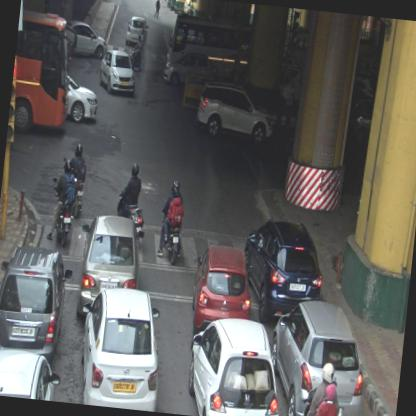bus: (8, 10, 78, 136), (164, 13, 252, 82)
car: (261, 294, 373, 415), (72, 283, 168, 411), (184, 312, 290, 415), (235, 219, 328, 328), (0, 241, 76, 365), (70, 212, 145, 324), (189, 244, 256, 334), (193, 82, 277, 146), (0, 347, 63, 401), (161, 51, 214, 92), (96, 46, 138, 96), (63, 19, 110, 60), (124, 14, 150, 48)
motorcycle: (42, 158, 78, 250), (112, 161, 152, 243), (153, 179, 188, 264), (298, 358, 349, 415), (63, 143, 88, 219), (128, 36, 146, 70)
